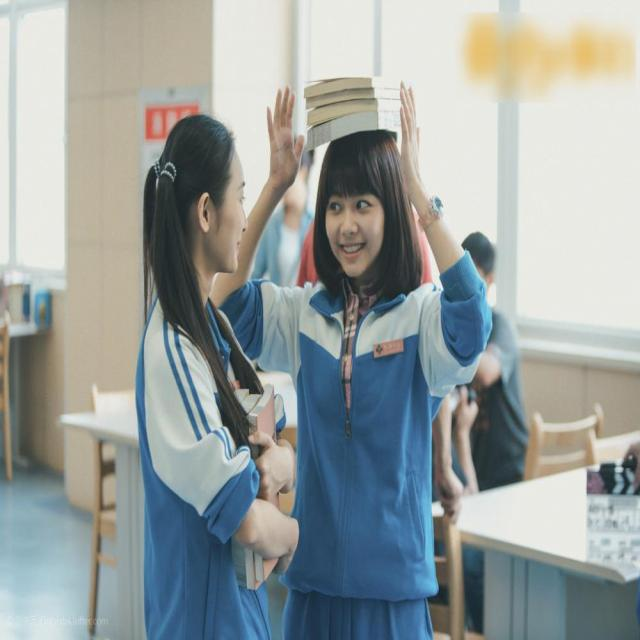Manusia: (286, 53, 477, 640), (130, 84, 294, 640)
